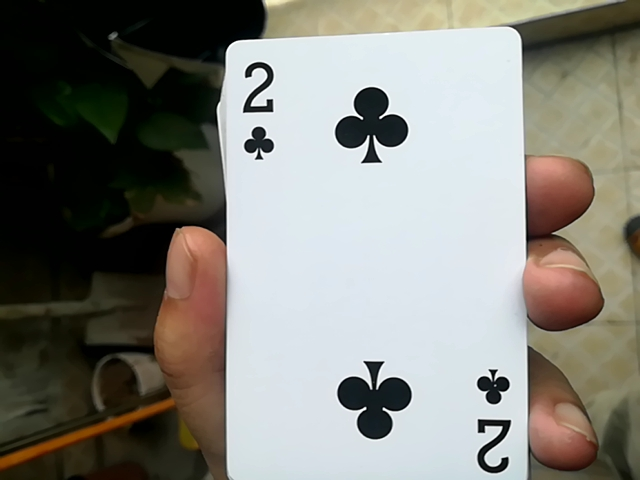mh 2: (202, 21, 534, 479)
